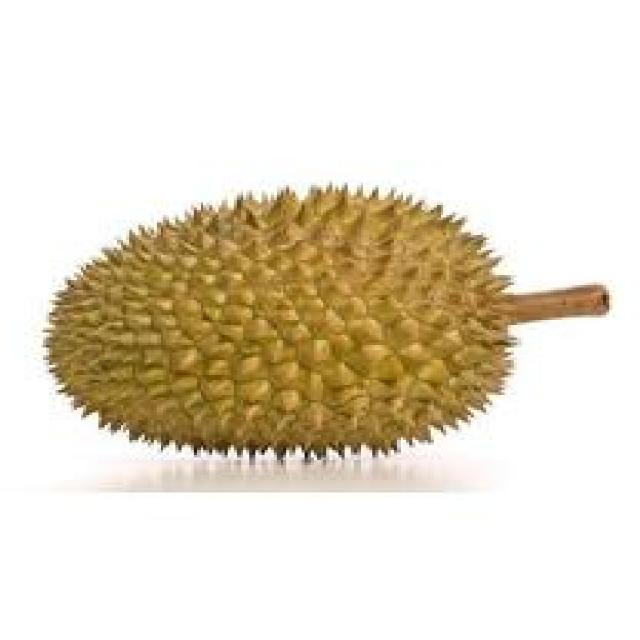fruit: (19, 152, 378, 500)
